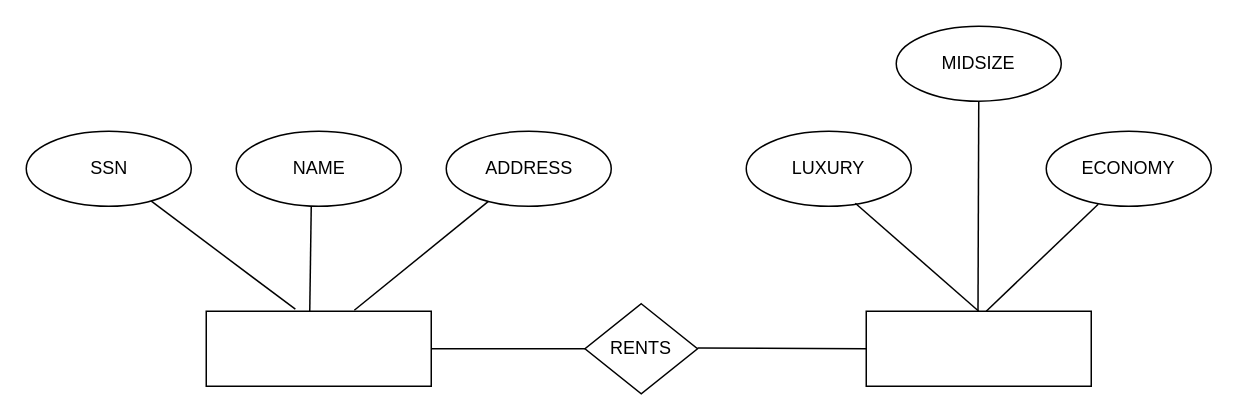
The diagram is 1238 pixels wide and 420 high, and some of its shapes have lost their labels. Each missing label, with the centre of its shape:
"CUSTOMER" belongs at point (318, 348).
"INVENTORY" belongs at point (978, 348).
